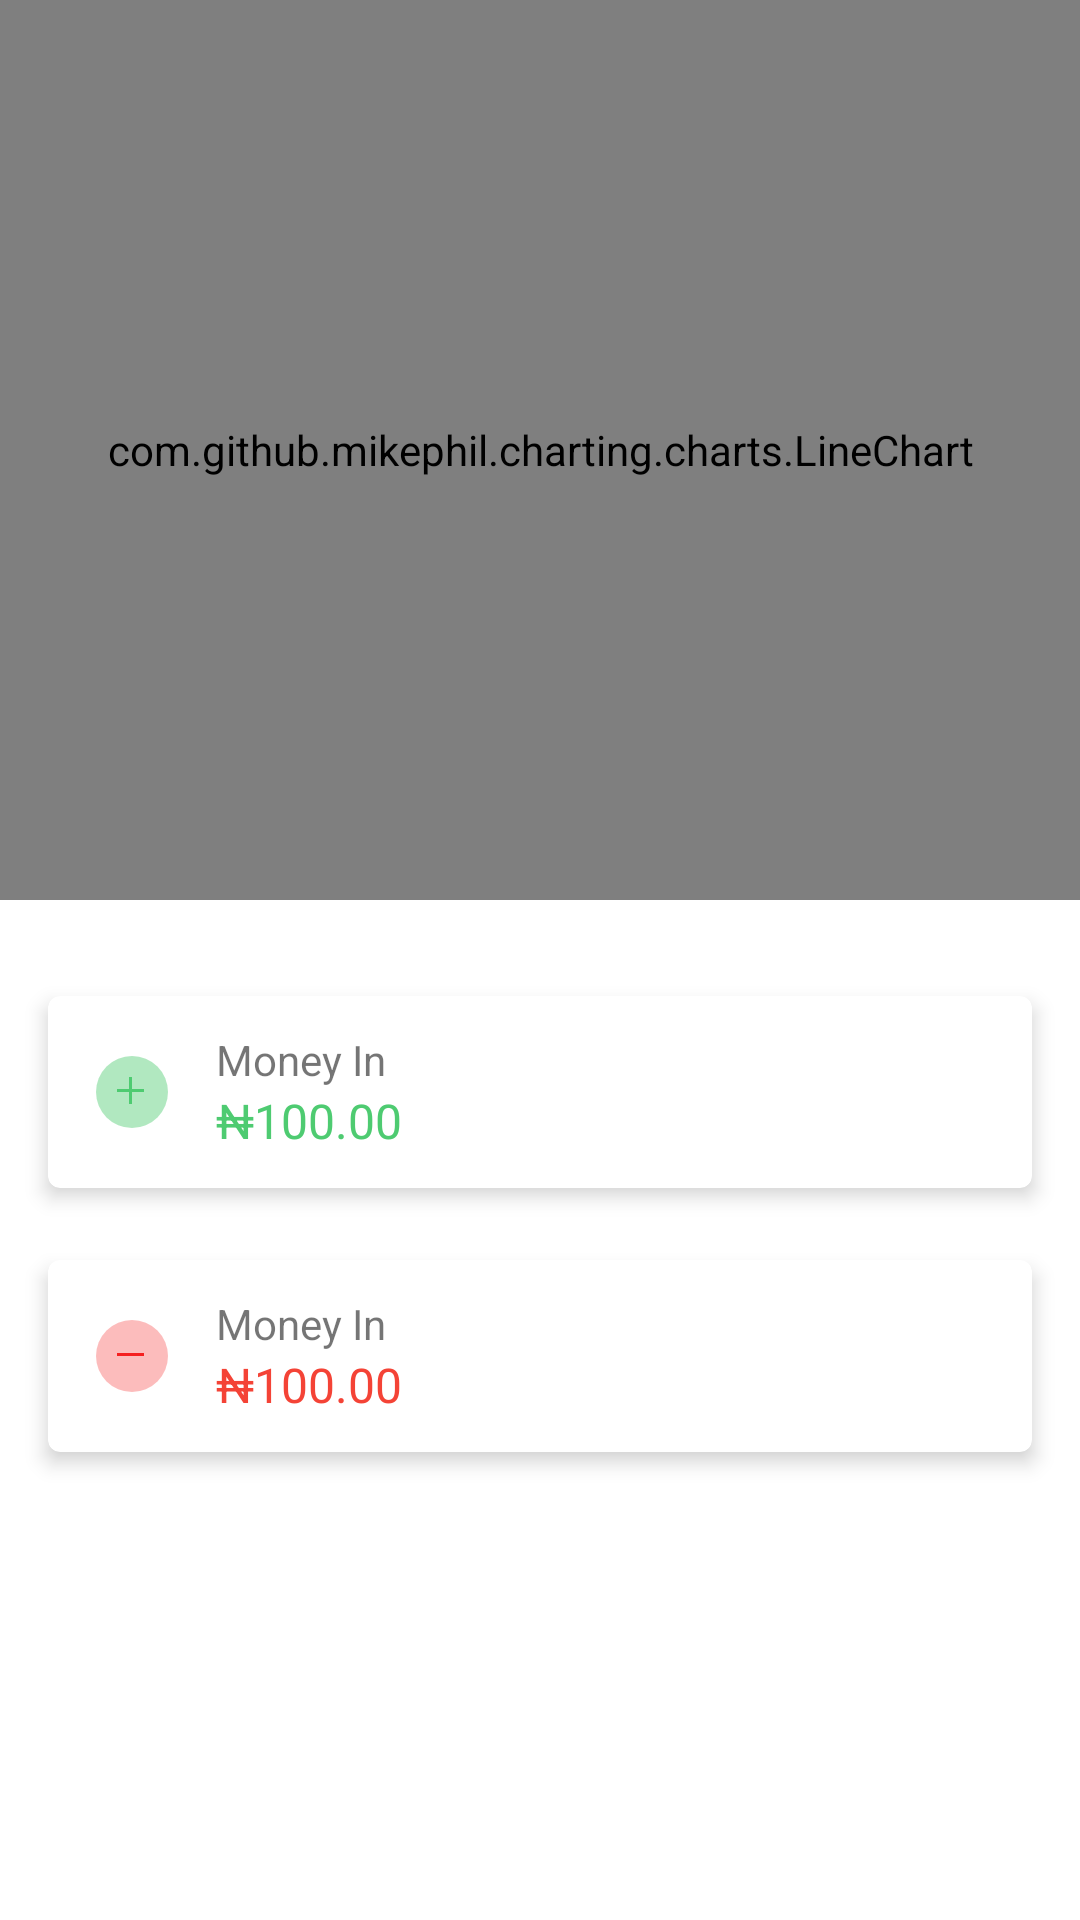

Where to tap for icons on this 1080*1920 app screen, as point (x, y):
minus: point (132, 1356)
plus: point (132, 1092)
